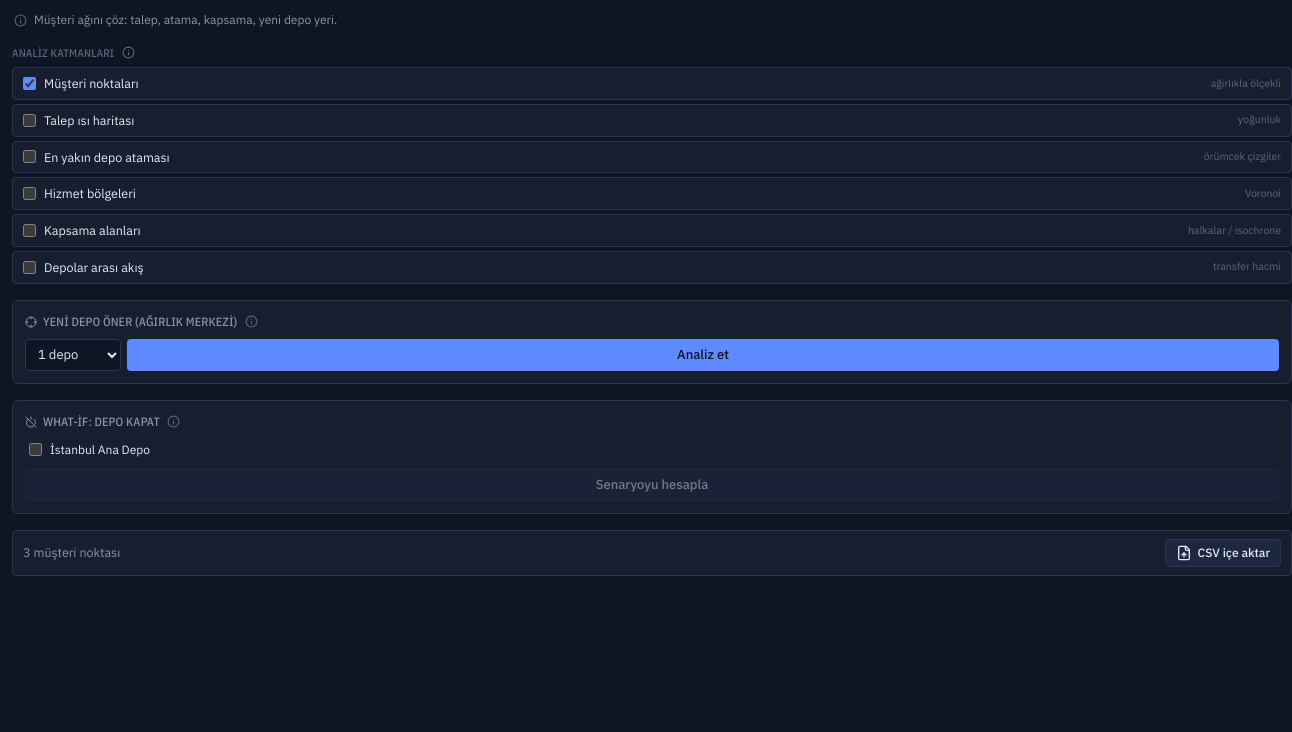
NetworkPanel › atama katmanı açılınca depo yük özetini listeler
Click the checkbox labelled "En yakın depo ataması örümcek çizgiler": (30, 157) [23,150,36,163]
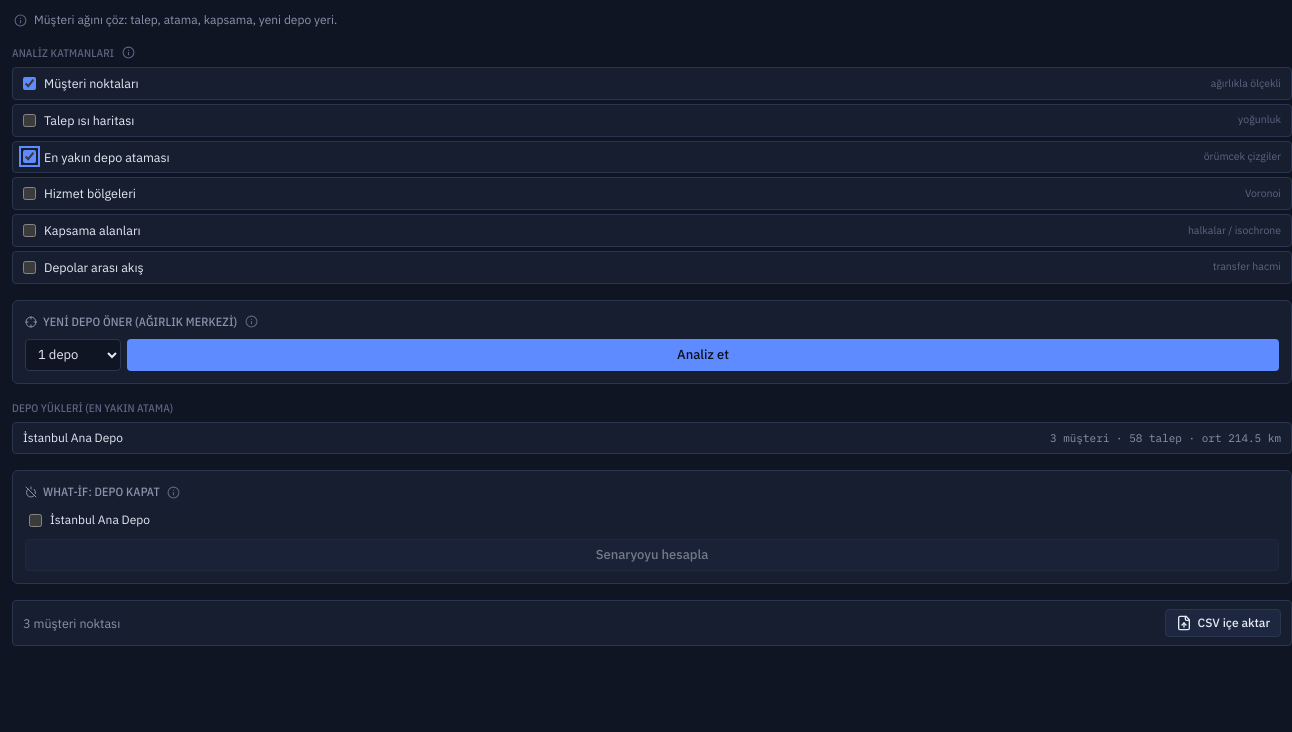
Check: the heading "Depo yükleri (en yakın atama)" is shown, box [12,400,173,414]
Check: the text "3 müşteri · 58 talep · ort 214.5 km" is shown, box [1050,430,1281,446]
